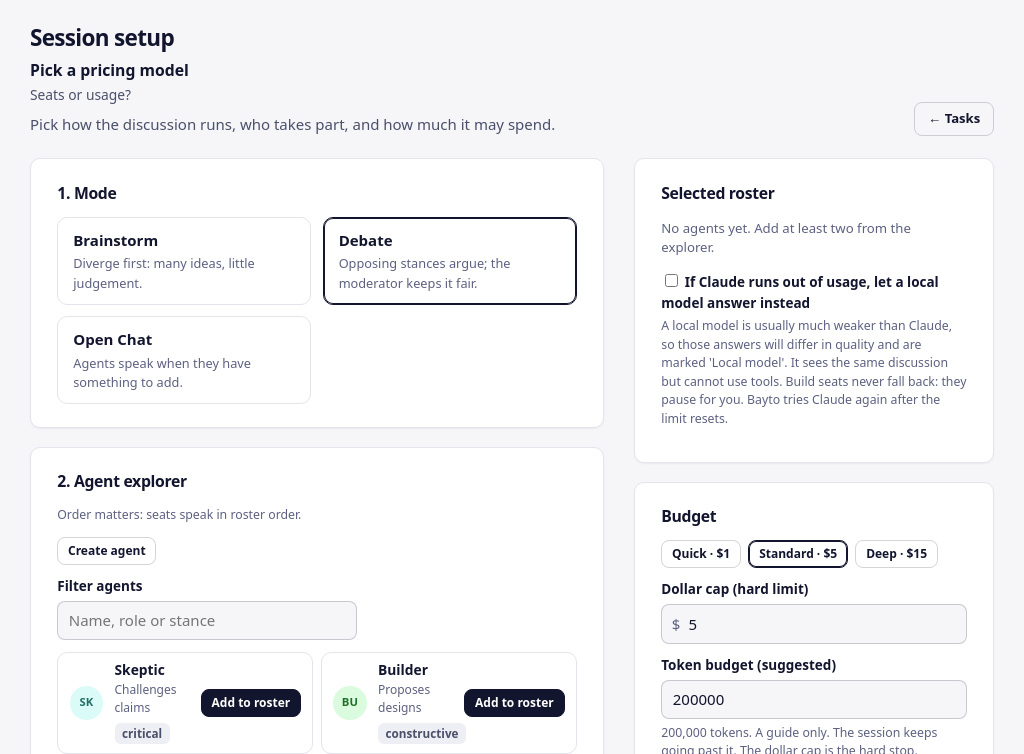
Test: UX-13 mobile bar and filter › shows seats and cost in a bar and filters the agent list
This screenshot has width=1024, height=754.
Check: the text "Pick a pricing model" is shown, box 30,58 -> 189,80
Click the button "Add to roster" below "Skeptic".
click(251, 703)  # box 201,689 -> 301,717
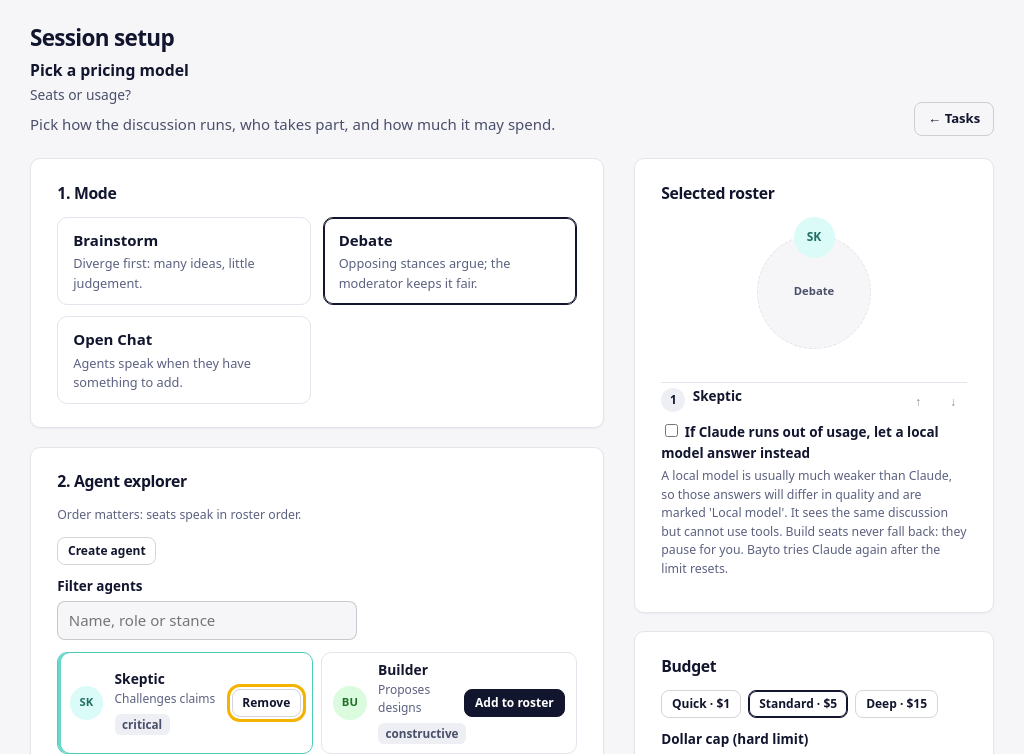
Type "build" into the search field labelled "Filter agents".
click(207, 621); type("build")  # box 57,601 -> 357,640
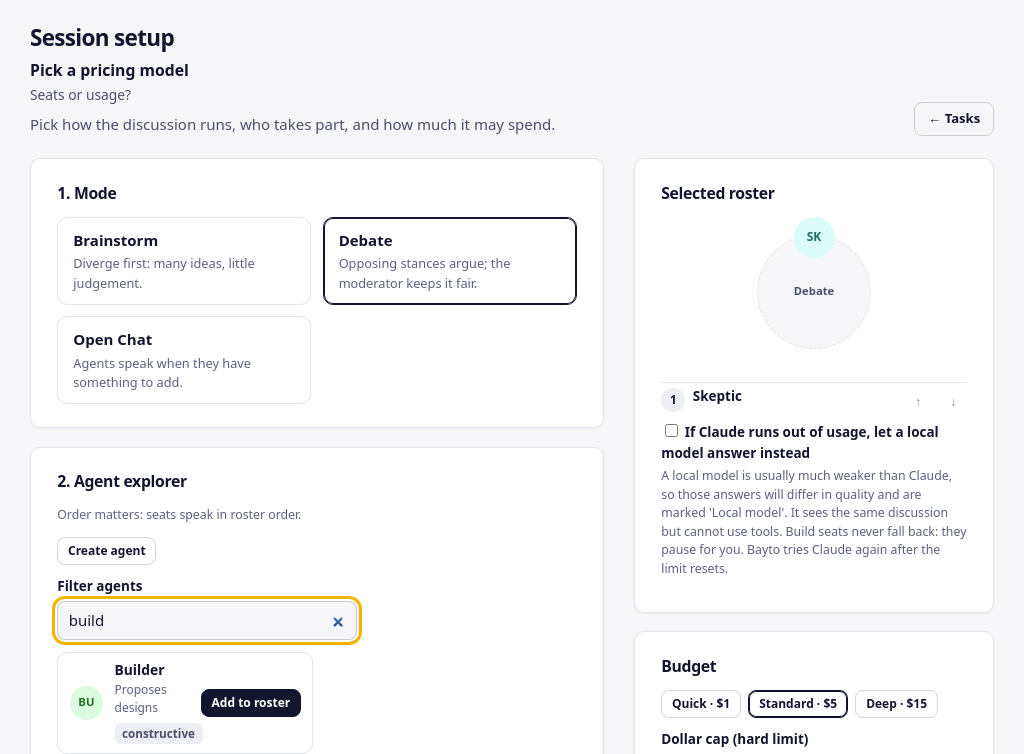
Check: the text "Builder" is shown, box 114,660 -> 164,679
Replace the text in the search field labelled "Filter agents" with "zzz" at (207, 621), box 57,601 -> 357,640
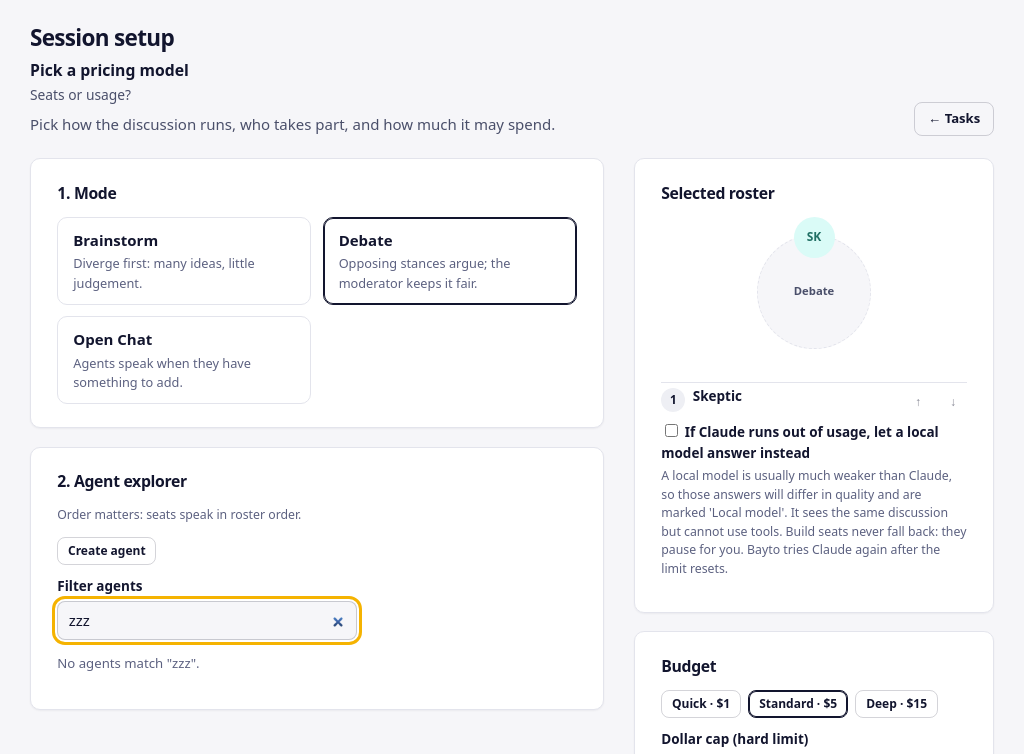
Check: the text "No agents match \"zzz\"." is shown, box 57,654 -> 200,672
